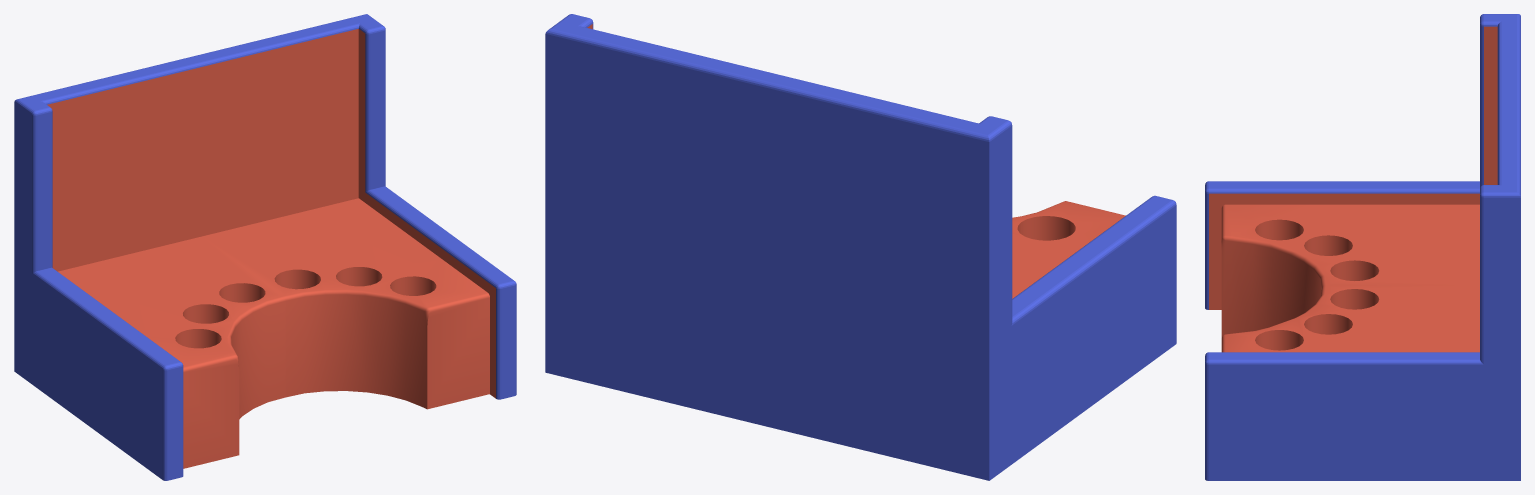
The model's file is whak_a_mole_courbe.fbx.
3 views of the same model, side by side, from view 1: azimuth 30°, elevation 25°; view 2: azimuth 150°, elevation 25°; view 3: azimuth 270°, elevation 25° (orthographic). The views are drawn at different scales.
Parts seen in each view (by area): view 1: Cube.002, Cube.001; view 2: Cube.002, Cube.001; view 3: Cube.002, Cube.001.
Boxes of the visible parts, left/top/right/bottom form: Cube.002: left=14, top=14, right=516, bottom=480; Cube.001: left=58, top=198, right=489, bottom=468; Cube.002: left=545, top=14, right=1176, bottom=480; Cube.001: left=1012, top=201, right=1125, bottom=298; Cube.002: left=1205, top=14, right=1520, bottom=480; Cube.001: left=1221, top=204, right=1479, bottom=352.
Size of the model in its own units: 547 by 403 by 404.
